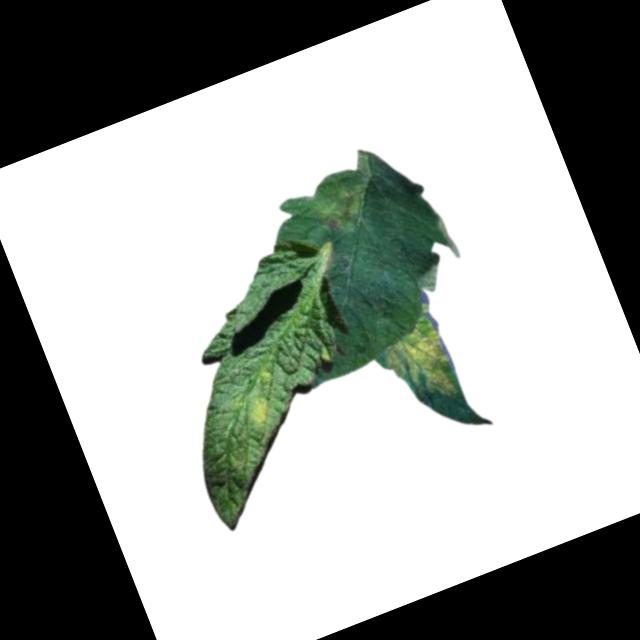Leaf_Mold: (371, 305, 467, 417), (289, 159, 390, 249), (238, 392, 279, 433)
